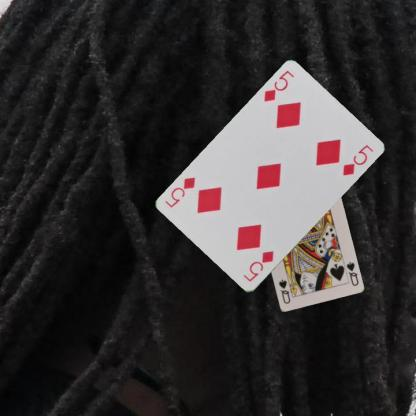5d: (240, 248, 275, 284), (261, 68, 295, 104)
Qs: (344, 259, 359, 287)
